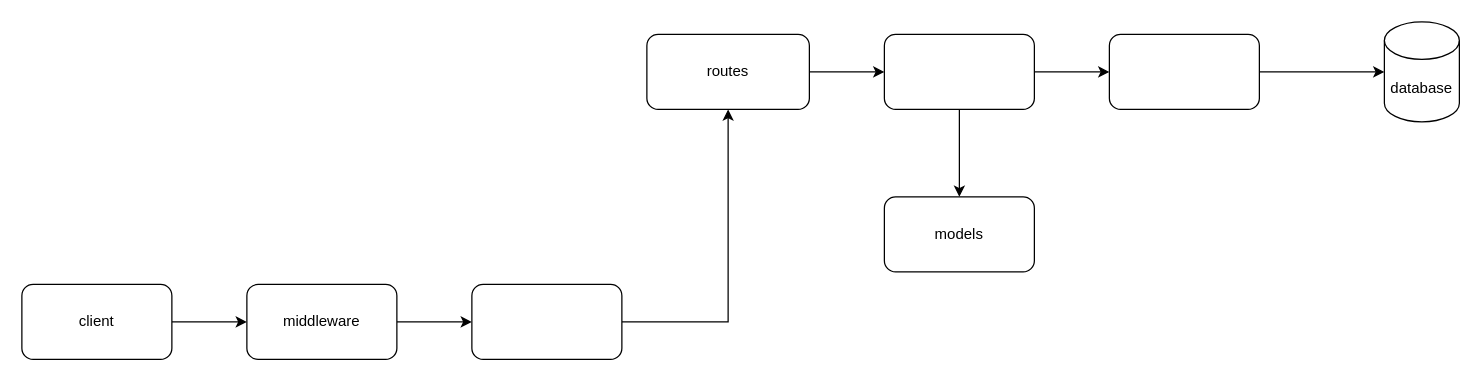
This 1481x381 diagram has some shape labels left out. The shapes that lost their labels are listed below. From the top down, each one's centre as x and y in pixels, then its label:
(x=958, y=71): controller
(x=1183, y=71): repository
(x=546, y=321): api
